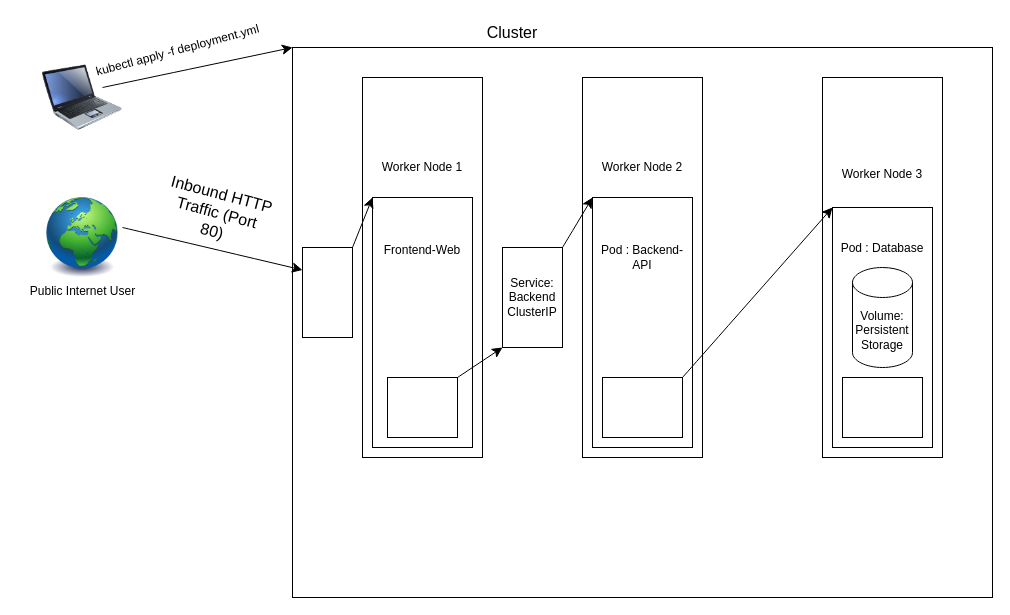
This 1010x615 diagram has some shape labels left out. Each missing label, with the centre of its shape:
"Container : PostgreSQL" belongs at [882,407].
"Container: Go Server" belongs at [642,407].
"React UI" belongs at [422,407].
"Service: frontend LoadBalancer" belongs at [327,292].
"Your Computer (kubectl)" belongs at [82,97].
